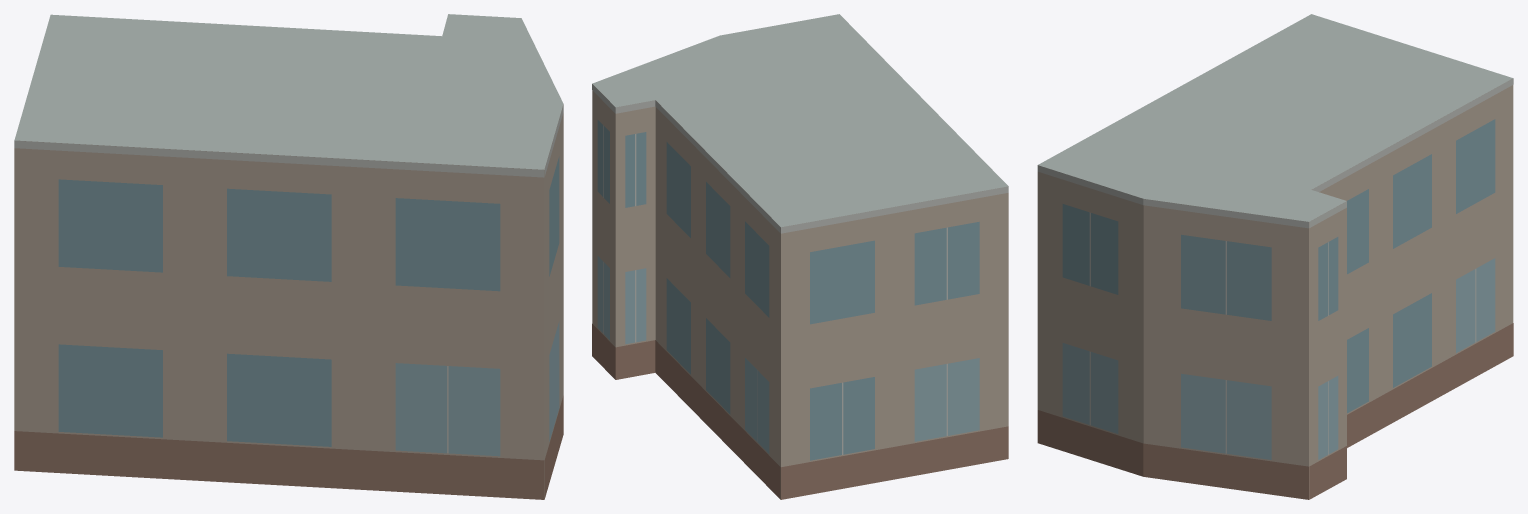
The model's file is survey-upis-32928760.glb.
The picture shows the model from 3 angles, left to right: view 1: azimuth 30°, elevation 25°; view 2: azimuth 150°, elevation 25°; view 3: azimuth 270°, elevation 25°; orthographic projection. The views are drawn at different scales.
Visible parts, largest first — view 1: survey-upis-32928760.tmp; view 2: survey-upis-32928760.tmp; view 3: survey-upis-32928760.tmp.
Part boxes in pixels (x1,y1,x2,y2): survey-upis-32928760.tmp: [14, 14, 563, 499]; survey-upis-32928760.tmp: [592, 14, 1008, 499]; survey-upis-32928760.tmp: [1037, 14, 1513, 499].
Bounding box in the file's own units: 16.72 × 10.42 × 16.17.
